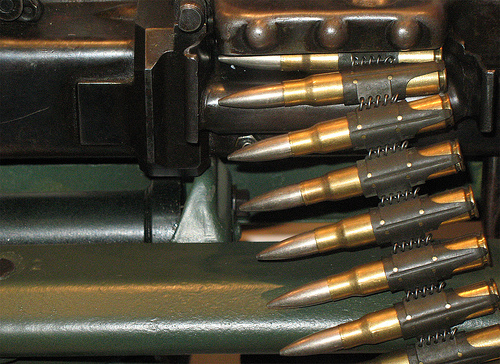rifle: (151, 34, 486, 354)
